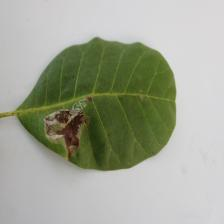leaf miner: (45, 96, 94, 160)
